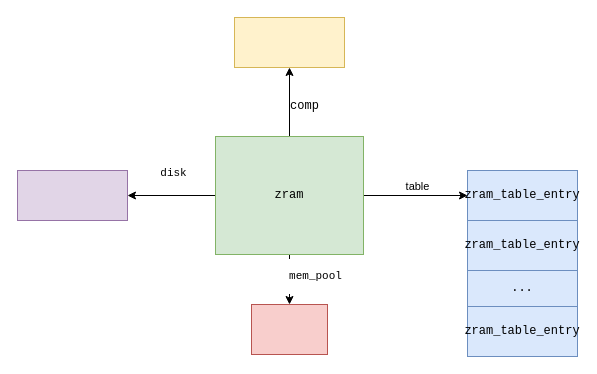
The diagram is 597 pixels wide and 374 high, and some of its shapes have lost their labels. The shapes that lost their labels are listed below. From the top down, each one's centre as x and y in pixels, then its label:
point 289,42: zcomp
point 72,195: gendisk
point 289,329: zs_pool
